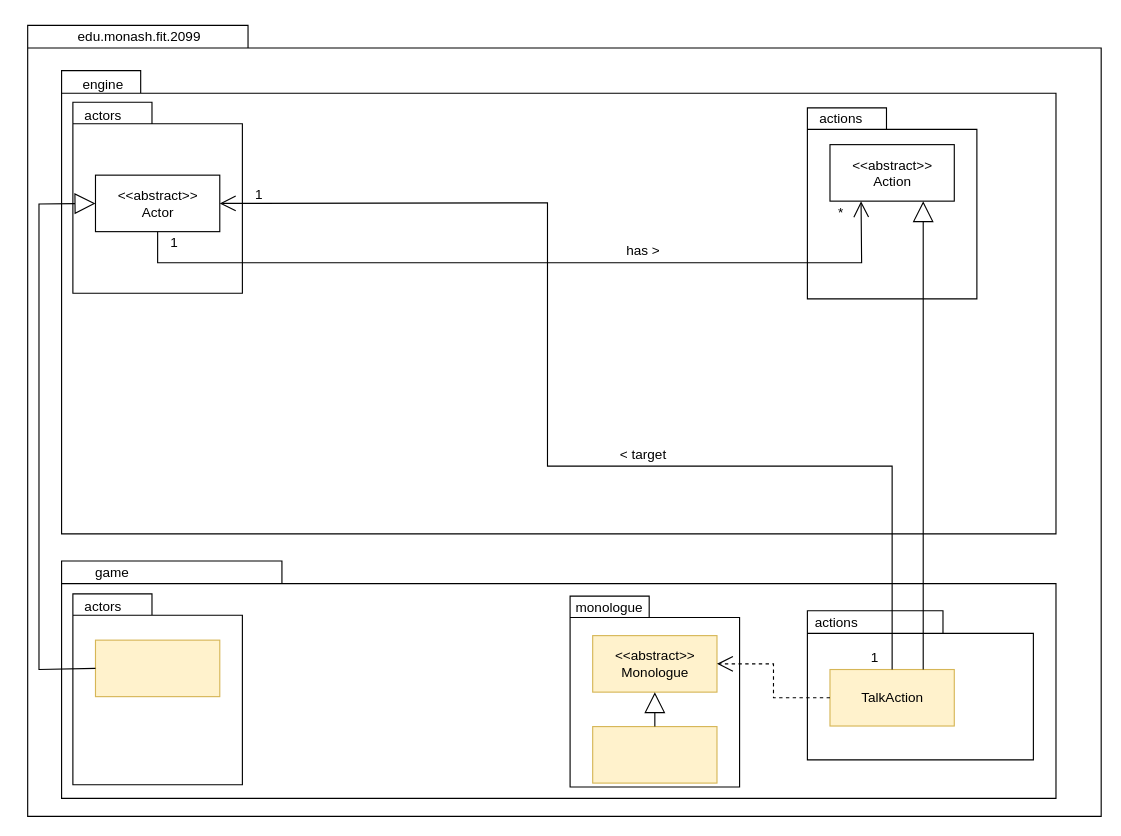
This 1121x836 diagram has some shape labels left out. Here are the shapes that lost their labels. From the top down, the centre of each, then its label:
At [157,668]: "Toad".
At [654,754]: "Monologue_Toad".
